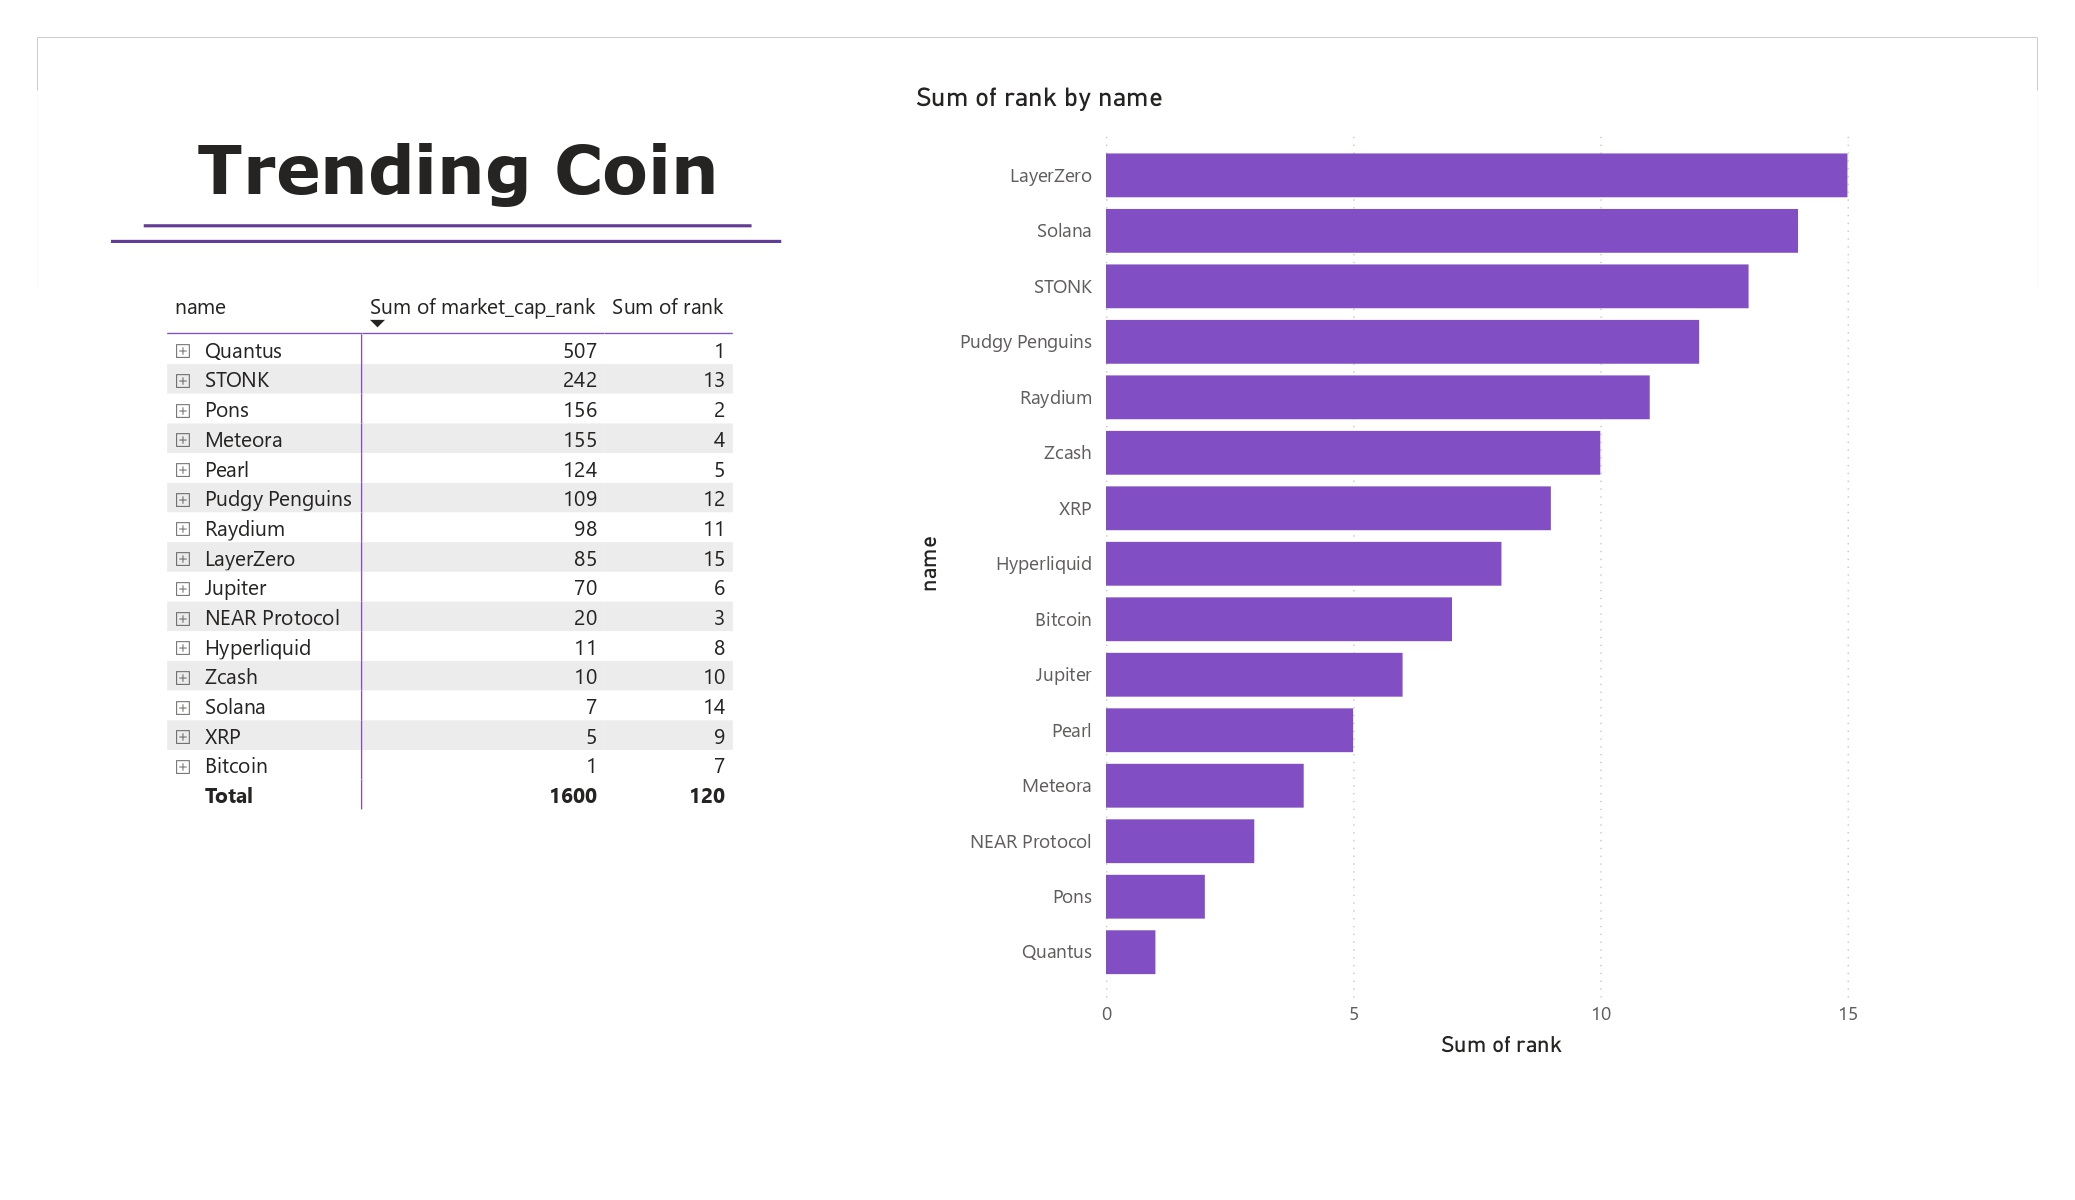

This screenshot's page, from the dashboard's own definition file:
{"tool":"powerbi","page":{"name":"Page 4","canvas":[1280,720],"ordinal":3},"visuals":[{"type":"pivotTable","fields":{"Rows":["gold trending_latest.name","gold trending_latest.coin_id","gold trending_latest.snapshot_at","gold trending_latest.symbol"],"Values":["Sum(gold trending_latest.market_cap_rank)","Sum(gold trending_latest.rank)"]},"box":[78.3,156.6,379.5,343.7],"z":0},{"type":"clusteredBarChart","fields":{"Category":["gold trending_latest.name"],"Y":["Sum(gold trending_latest.rank)"]},"box":[556.7,28.3,645,628.3],"z":1000},{"type":"textbox","box":[2,52,534,63],"z":1001},{"type":"shape","box":[68,110,389,21],"z":1002},{"type":"shape","box":[47,120,429,21],"z":1003}]}

Visuals, with their boxes on the page's 1280x720 design canvas (x1, y1, x2, y2). These are canvas units, not pixel positions in the 2075x1200 screenshot, which may show the page scaled, cropped or inside an application window:
pivotTable - gold trending_latest.name x gold trending_latest.coin_id: bbox(78, 157, 458, 500)
clusteredBarChart - gold trending_latest.name x Sum(gold trending_latest.rank): bbox(557, 28, 1202, 657)
textbox: bbox(2, 52, 536, 115)
shape: bbox(68, 110, 457, 131)
shape: bbox(47, 120, 476, 141)
